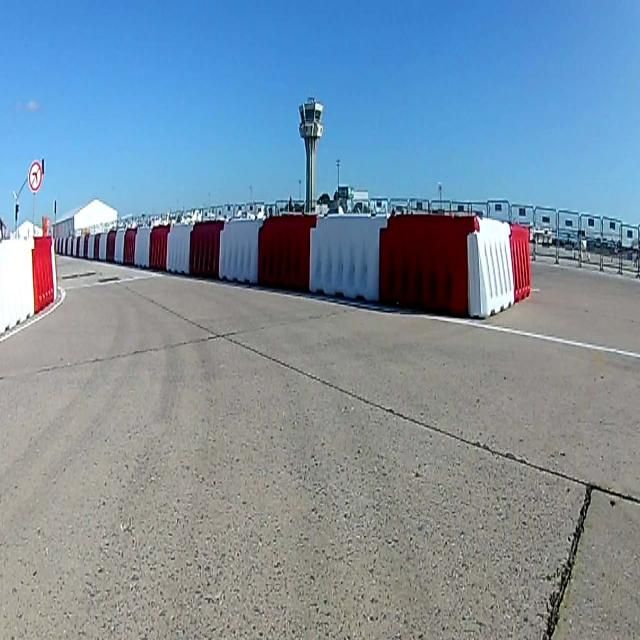soladonulmez: (27, 160, 43, 195)
